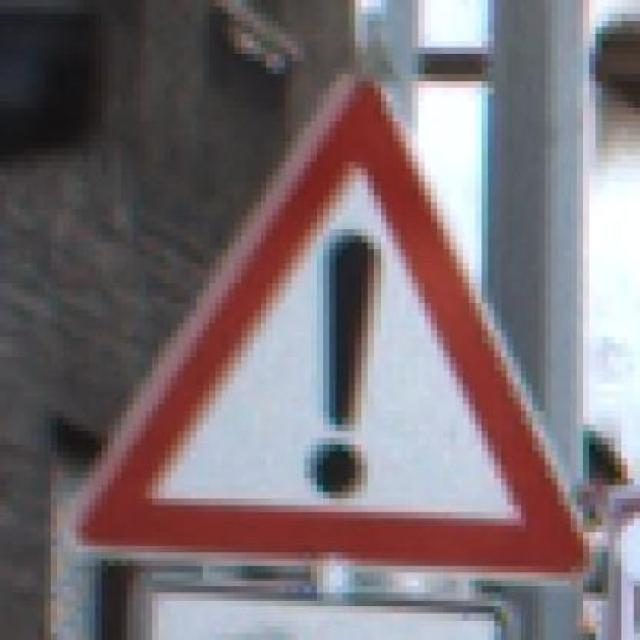Attention Please-: (59, 56, 616, 582)
